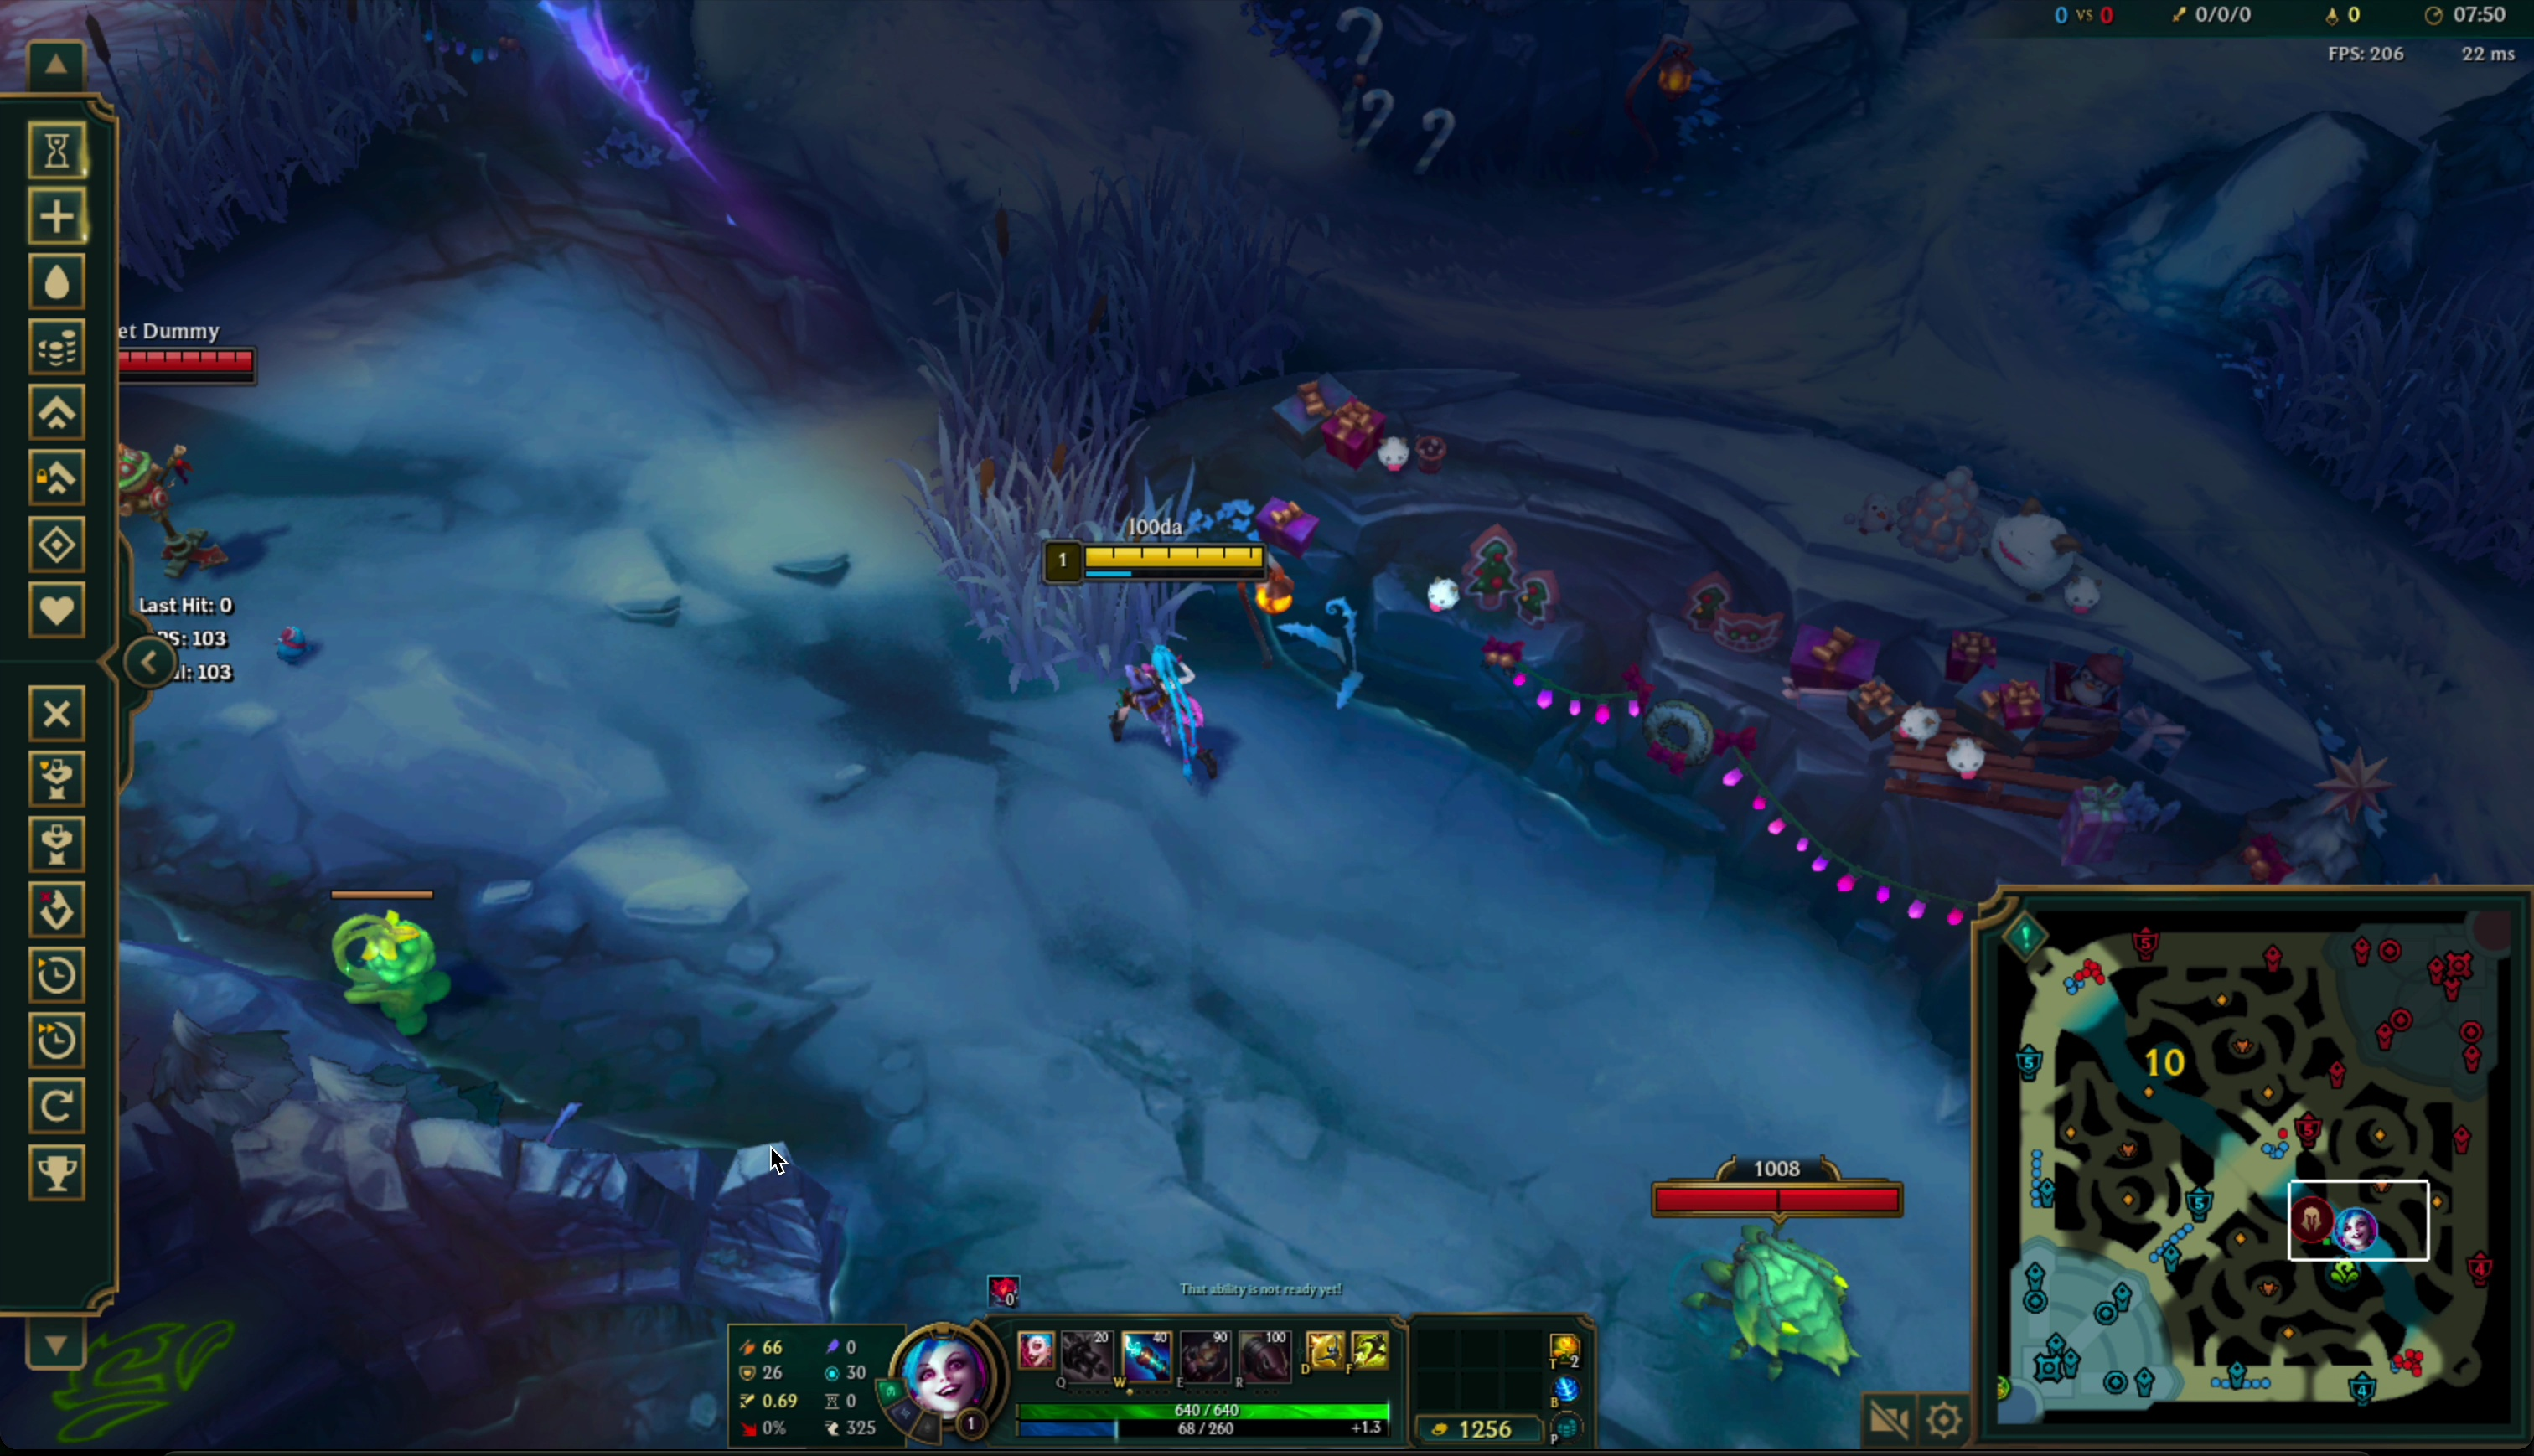JINX_W_PROJECTILE: (513, 0, 881, 294)
